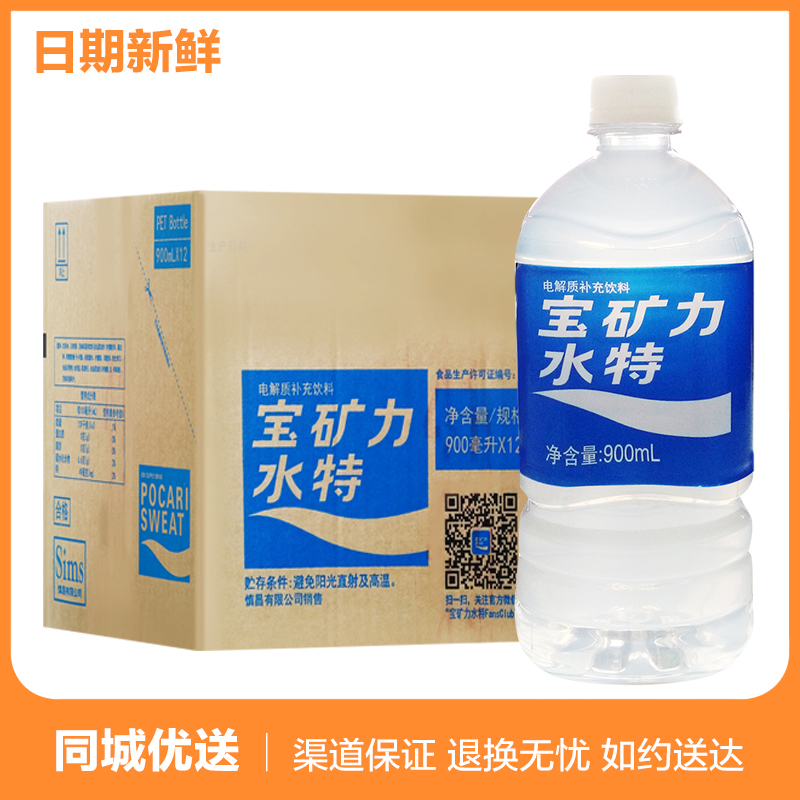POCARI SWEAT: (519, 73, 758, 682)
